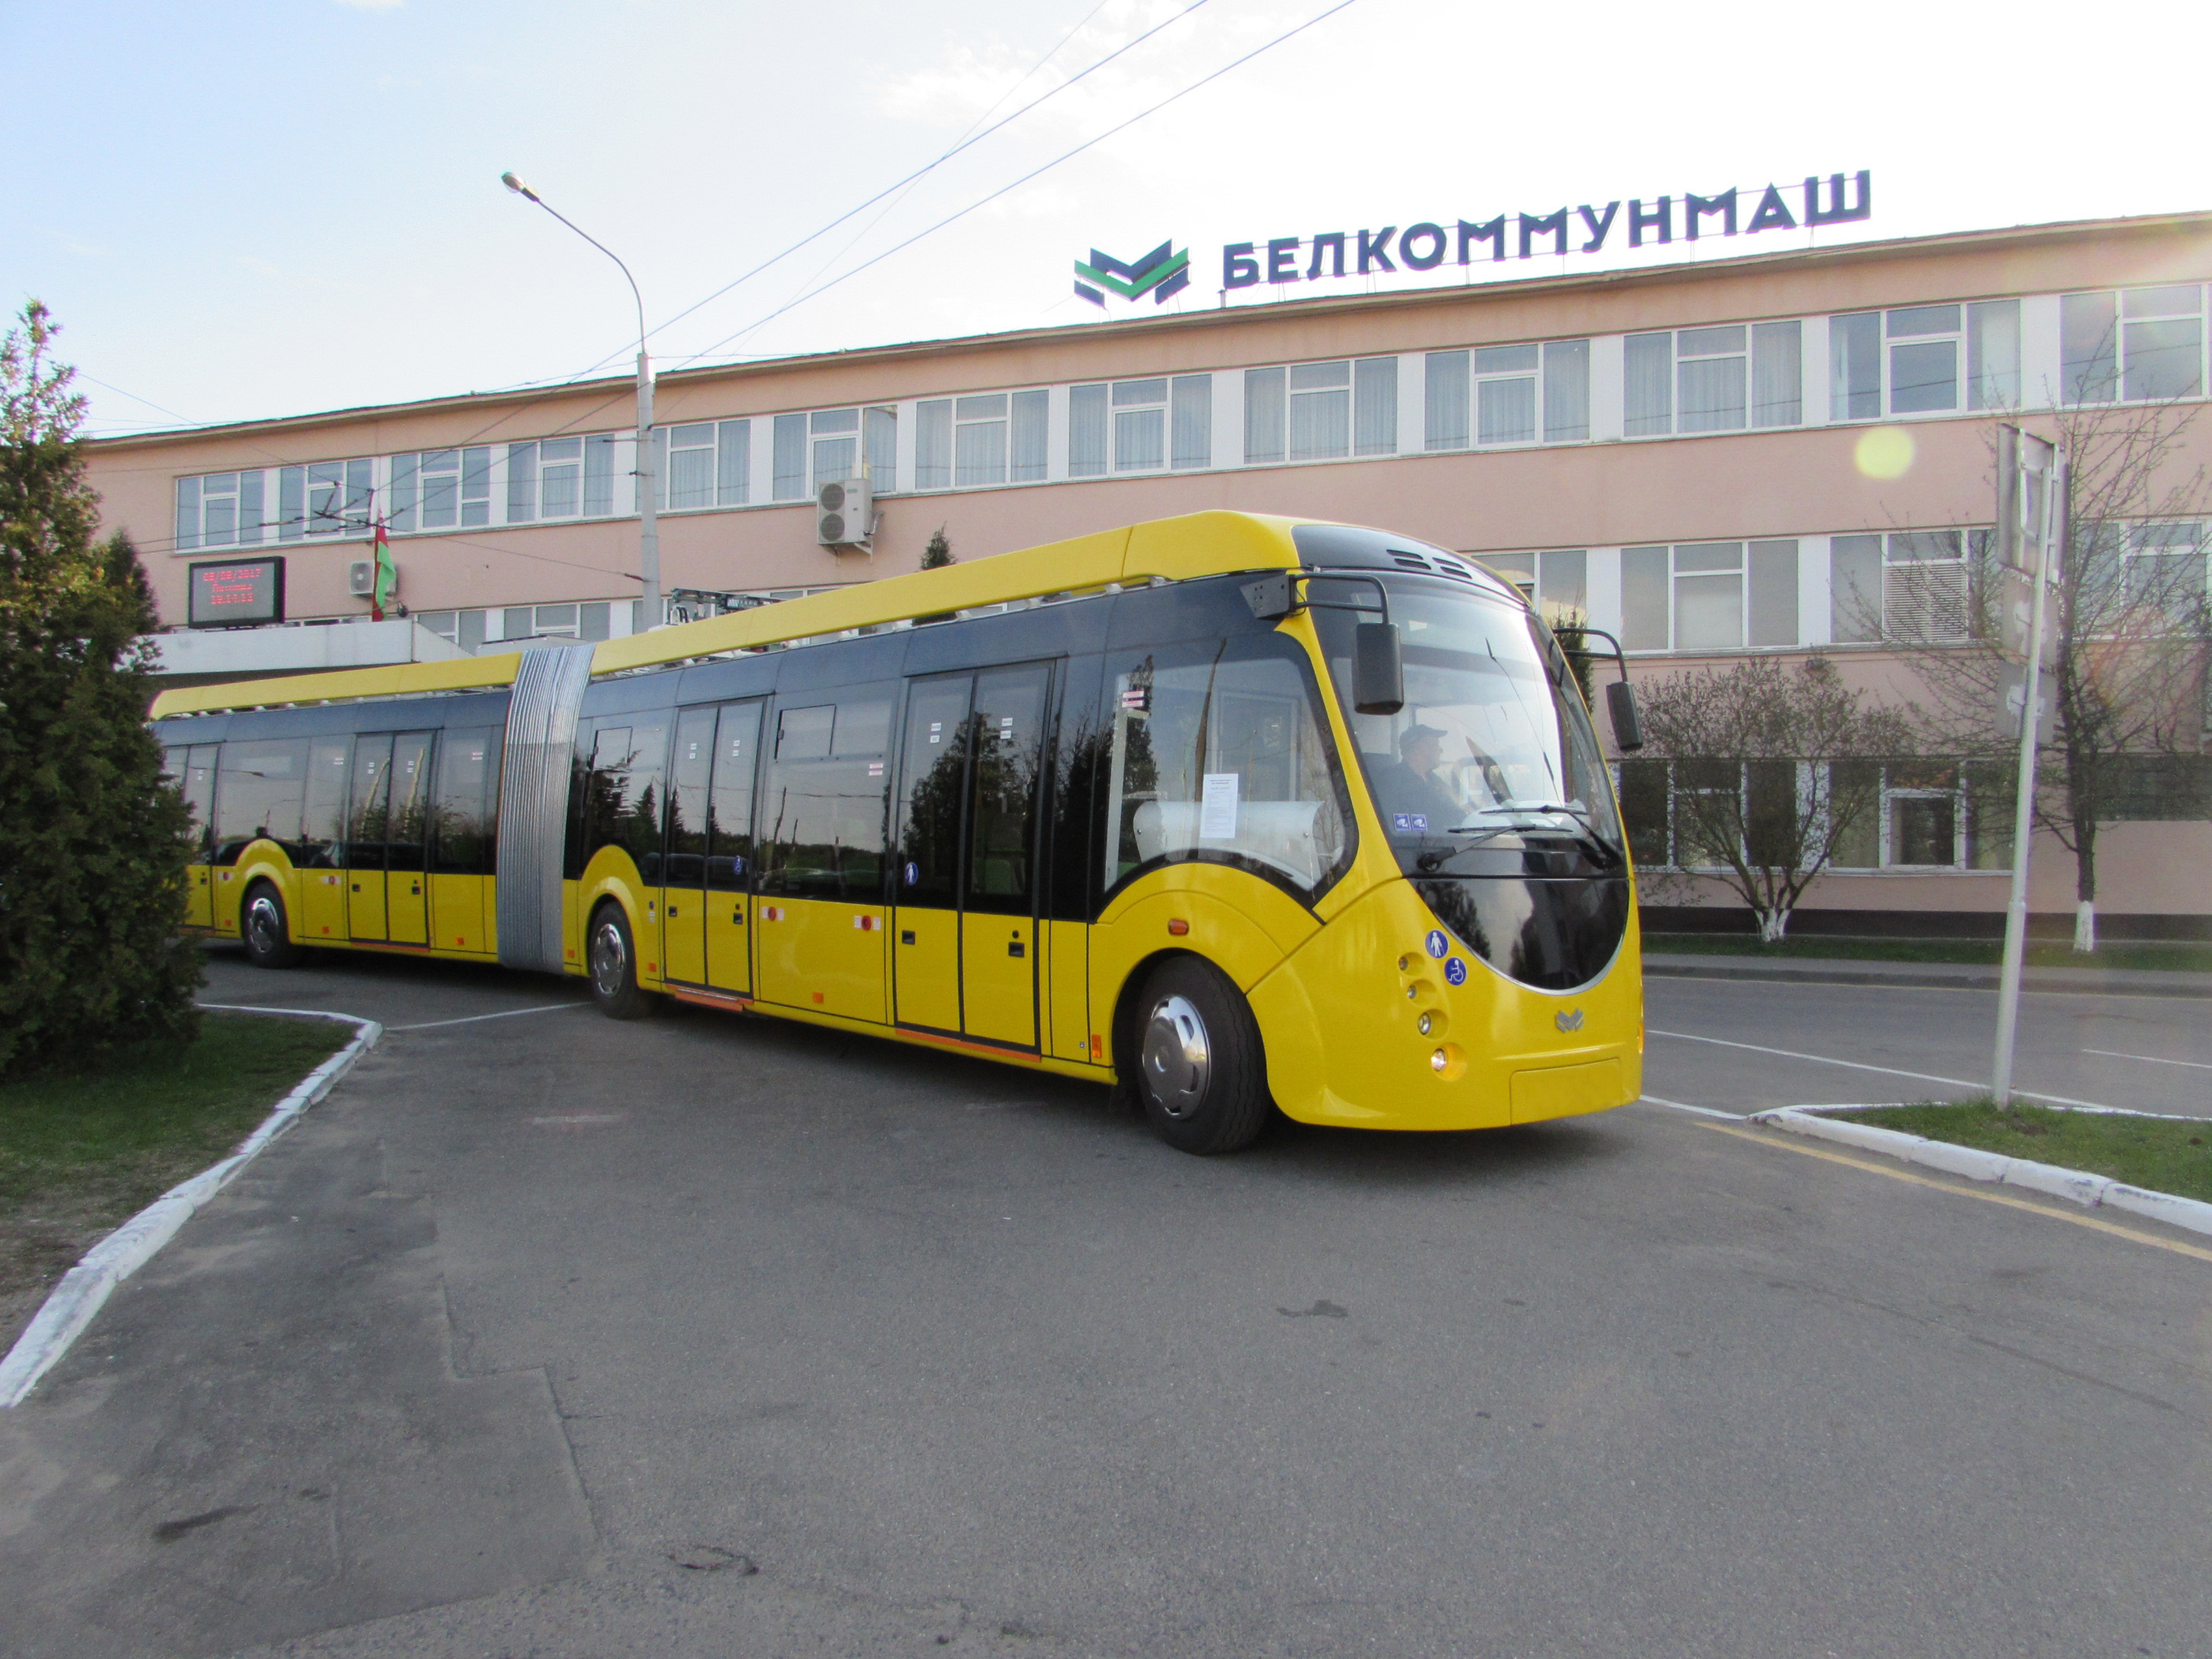bus: (108, 507, 1651, 1145)
